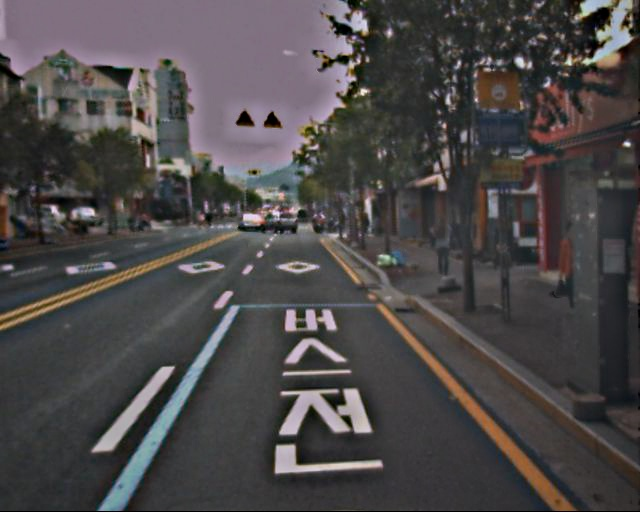person: (549, 222, 588, 308), (431, 215, 457, 278), (490, 220, 512, 271)
